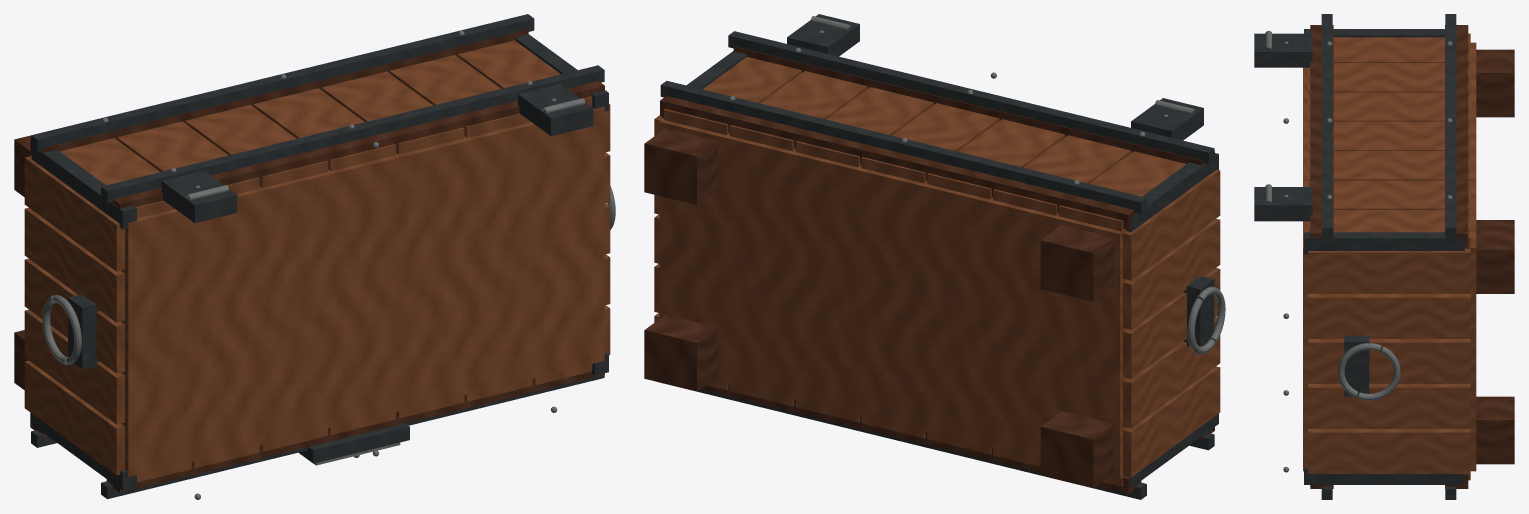
Rendered from SM_GateWardenChest_Base_1348_v1_UVdraft.obj.
3 renders of one model, left to right at view 1: azimuth 30°, elevation 25°; view 2: azimuth 150°, elevation 25°; view 3: azimuth 270°, elevation 25°, orthographic. The views are drawn at different scales.
Parts seen in each view (by area): view 1: Dovetailed_Oak_Base, Black_Iron_Base_Band_1_0.11, Black_Iron_Base_Band_1_0.322, Lower_Frame_1_0.331, Side_Oak_Stave_-1_0, Side_Oak_Stave_-1_3, Side_Oak_Stave_-1_4, Back_Hinge_Castings, Iron_Corner_Binding, Side_Oak_Stave_-1_1, Vertical_Handplaned_Stave_1_2, Vertical_Handplaned_Stave_1_4 (+13 smaller); view 2: Dovetailed_Oak_Base, Black_Iron_Base_Band_1_0.322, Black_Iron_Base_Band_1_0.11, Lower_Frame_1_0.1, Side_Oak_Stave_-1_0, Side_Oak_Stave_-1_3, Side_Oak_Stave_-1_4, Corner_Leg_-1_1, Corner_Leg_-1_-1, Corner_Leg_1_-1, Corner_Leg_1_1, Side_Oak_Stave_-1_1 (+15 smaller); view 3: Side_Oak_Stave_1_0, Side_Oak_Stave_1_3, Side_Oak_Stave_1_4, Side_Oak_Stave_1_1, Side_Oak_Stave_1_2, Iron_Corner_Binding, Dovetailed_Oak_Base, Back_Hinge_Castings, Vertical_Handplaned_Stave_1_2, Vertical_Handplaned_Stave_1_4, Vertical_Handplaned_Stave_1_3, Vertical_Handplaned_Stave_1_1 (+12 smaller).
Boxes of the visible parts, <box> form: Dovetailed_Oak_Base: <box>30,107,604,476</box>; Black_Iron_Base_Band_1_0.11: <box>31,14,534,151</box>; Black_Iron_Base_Band_1_0.322: <box>101,65,604,202</box>; Lower_Frame_1_0.331: <box>111,81,604,208</box>; Side_Oak_Stave_-1_0: <box>24,360,124,475</box>; Side_Oak_Stave_-1_3: <box>24,207,124,322</box>; Side_Oak_Stave_-1_4: <box>24,156,124,271</box>; Back_Hinge_Castings: <box>161,84,593,223</box>; Iron_Corner_Binding: <box>31,34,608,490</box>; Side_Oak_Stave_-1_1: <box>24,309,124,424</box>; Vertical_Handplaned_Stave_1_2: <box>185,105,327,187</box>; Vertical_Handplaned_Stave_1_4: <box>321,71,464,154</box>; Dovetailed_Oak_Base: <box>659,119,1126,478</box>; Black_Iron_Base_Band_1_0.322: <box>728,31,1214,164</box>; Black_Iron_Base_Band_1_0.11: <box>660,81,1146,213</box>; Lower_Frame_1_0.1: <box>660,96,1136,229</box>; Side_Oak_Stave_-1_0: <box>1123,366,1220,477</box>; Side_Oak_Stave_-1_3: <box>1123,218,1220,329</box>; Side_Oak_Stave_-1_4: <box>1123,169,1220,280</box>; Corner_Leg_-1_1: <box>1040,225,1114,301</box>; Corner_Leg_-1_-1: <box>1040,411,1114,487</box>; Corner_Leg_1_-1: <box>644,314,717,391</box>; Corner_Leg_1_1: <box>644,128,717,204</box>; Side_Oak_Stave_-1_1: <box>1123,317,1220,428</box>; Side_Oak_Stave_1_0: <box>1308,429,1470,473</box>; Side_Oak_Stave_1_3: <box>1308,294,1470,338</box>; Side_Oak_Stave_1_4: <box>1308,249,1470,293</box>; Side_Oak_Stave_1_1: <box>1308,384,1470,428</box>; Side_Oak_Stave_1_2: <box>1308,339,1470,383</box>; Iron_Corner_Binding: <box>1304,29,1464,484</box>; Dovetailed_Oak_Base: <box>1303,42,1476,471</box>; Back_Hinge_Castings: <box>1254,33,1312,221</box>; Vertical_Handplaned_Stave_1_2: <box>1308,92,1470,121</box>; Vertical_Handplaned_Stave_1_4: <box>1308,151,1470,180</box>; Vertical_Handplaned_Stave_1_3: <box>1308,121,1470,150</box>; Vertical_Handplaned_Stave_1_1: <box>1308,63,1470,92</box>.
Size of the model in its own units: 0.944 by 0.5626 by 0.4465.
Materials: 5 (5 with a texture image).
